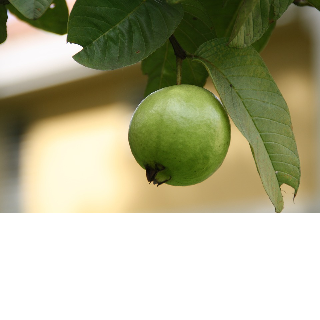oi: (123, 76, 232, 192)
